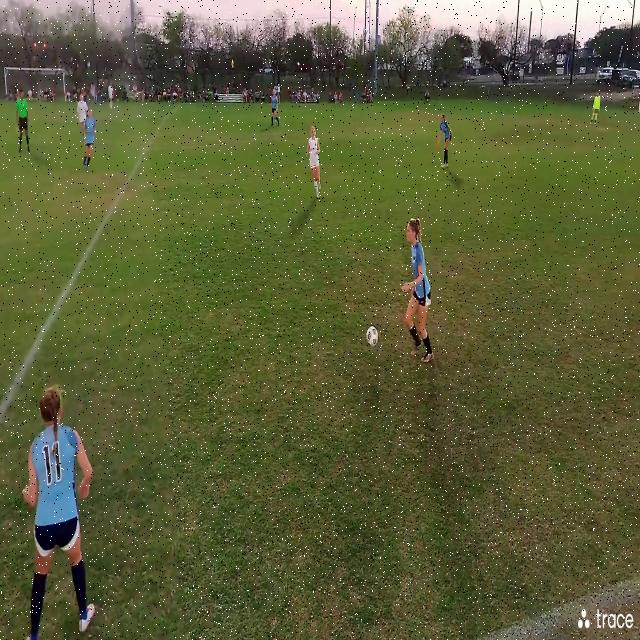Ball: (364, 321, 379, 349)
GoalKeeper: (591, 88, 601, 128)
Referee: (15, 90, 31, 152)
TEAM 1: (21, 381, 100, 639), (399, 214, 438, 376), (438, 109, 456, 175), (84, 109, 95, 171), (271, 88, 281, 128)
TEAM 2: (306, 125, 324, 200), (78, 93, 88, 135), (108, 82, 114, 110)
